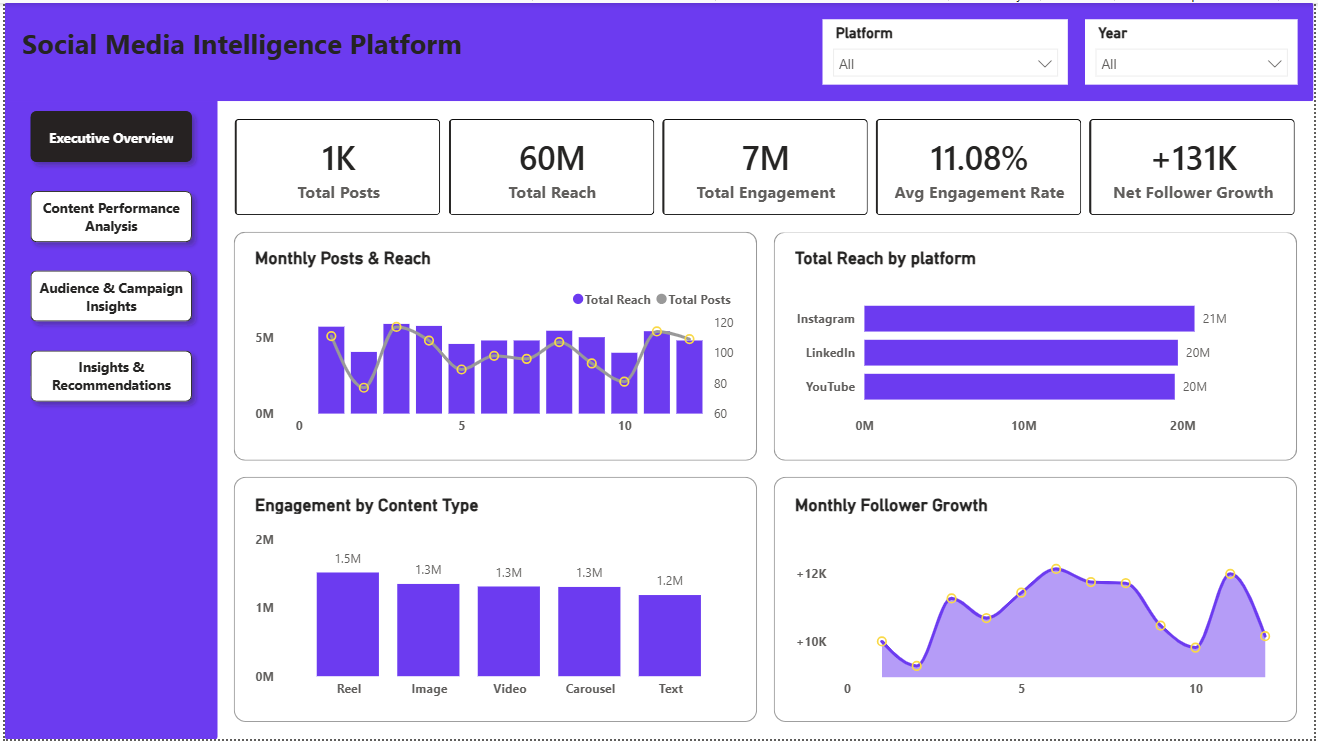

This screenshot's page, from the dashboard's own definition file:
{"tool":"powerbi","page":{"name":"Executive Overview","canvas":[1280,720],"ordinal":0},"visuals":[{"type":"shape","box":[752,464,512,240],"z":0},{"type":"shape","box":[224,464,512,240],"z":1000},{"type":"shape","box":[752,224,512,224],"z":2000},{"type":"cardVisual","fields":{"Data":["_Measures.Total Posts","_Measures.Total Reach","_Measures.Total Engagement","_Measures.Average Engagement Rate","_Measures.Net Follower Growth"]},"box":[208,96,1072,128],"z":3000},{"type":"barChart","fields":{"Y":["_Measures.Total Reach"],"Category":["Fact_content_performance.platform"]},"box":[768,240,480,192],"z":4000},{"type":"clusteredColumnChart","title":"Engagement by Content Type","fields":{"Category":["Fact_content_performance.content_type"],"Y":["_Measures.Total Engagement"]},"box":[240,480,480,208],"z":5000},{"type":"areaChart","title":"Monthly Follower Growth","fields":{"Category":["Dim_Date.Month Number"],"Y":["_Measures.Net Follower Growth"]},"box":[768,480,480,208],"z":6000},{"type":"shape","box":[224,224,512,224],"z":7000},{"type":"lineStackedColumnComboChart","title":"Monthly Posts & Reach","fields":{"Y":["_Measures.Total Reach"],"Y2":["_Measures.Total Posts"],"Category":["Dim_Date.Month Number"]},"box":[240,240,480,192],"z":8000},{"type":"shape","box":[0,0,208,720],"z":9000},{"type":"shape","box":[0,0,1280,96],"z":10000},{"type":"textbox","box":[0,16,464,64],"z":11000},{"type":"slicer","fields":{"Values":["Dim_Date.Year"]},"box":[1056,16,208,64],"z":12000},{"type":"slicer","fields":{"Values":["Fact_content_performance.platform"]},"box":[800,16,240,64],"z":13000},{"type":"pageNavigator","box":[16,96,176,304],"z":14000}]}

Visuals, with their boxes in screenshot pixels (x1, y1, x2, y2), scaled from the page's 1280x720 canvas onto the 1318x741 screenshot:
shape: left=774, top=478, right=1302, bottom=725
shape: left=231, top=478, right=758, bottom=725
shape: left=774, top=231, right=1302, bottom=461
cardVisual - _Measures.Total Posts x _Measures.Total Reach: left=214, top=99, right=1317, bottom=231
barChart - _Measures.Total Reach x Fact_content_performance.platform: left=791, top=247, right=1285, bottom=445
"Engagement by Content Type" clusteredColumnChart: left=247, top=494, right=741, bottom=708
"Monthly Follower Growth" areaChart: left=791, top=494, right=1285, bottom=708
shape: left=231, top=231, right=758, bottom=461
"Monthly Posts & Reach" lineStackedColumnComboChart: left=247, top=247, right=741, bottom=445
shape: left=0, top=0, right=214, bottom=740
shape: left=0, top=0, right=1317, bottom=99
textbox: left=0, top=16, right=478, bottom=82
slicer - Dim_Date.Year: left=1087, top=16, right=1302, bottom=82
slicer - Fact_content_performance.platform: left=824, top=16, right=1071, bottom=82
pageNavigator: left=16, top=99, right=198, bottom=412
